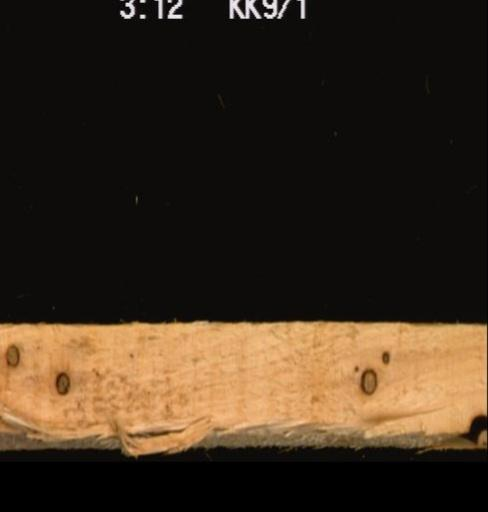dry_knot: (359, 365, 377, 394), (54, 369, 70, 394), (3, 341, 19, 365), (380, 348, 389, 363)
edge_knot: (455, 411, 486, 444)
